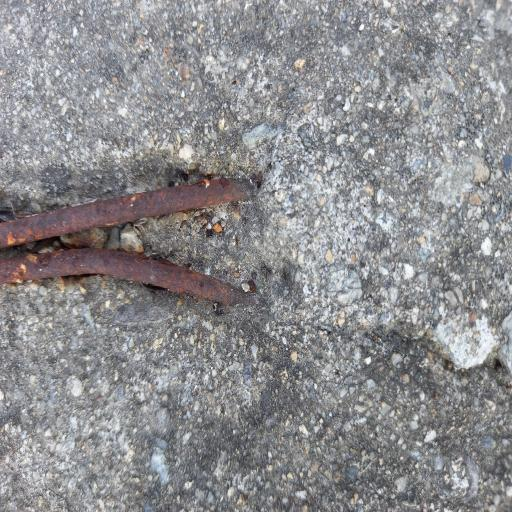exposed_rebar: (0, 178, 257, 248), (0, 249, 258, 306)
